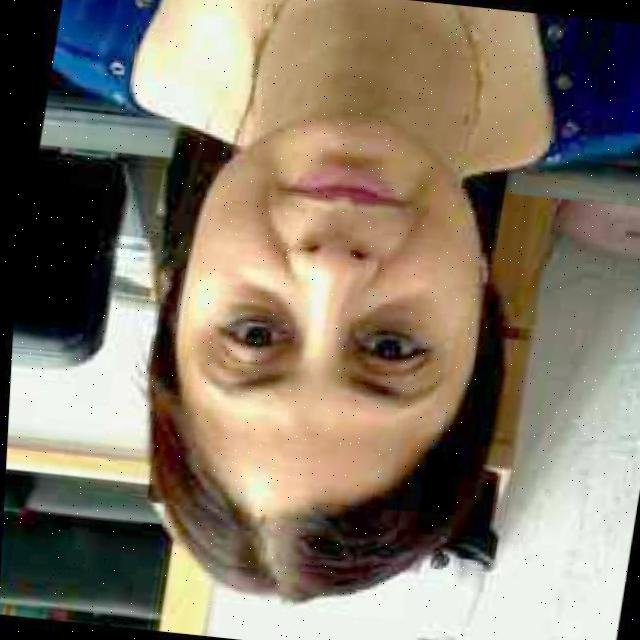puffy_eyes: (340, 297, 421, 343), (230, 282, 291, 332)
